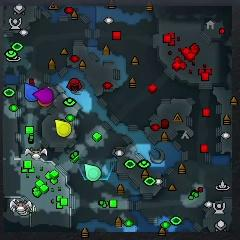p1: (24, 82, 39, 103)
p2: (84, 163, 102, 182)
p3: (34, 88, 54, 103)
p4: (55, 119, 72, 137)
p5: (37, 99, 53, 107)
